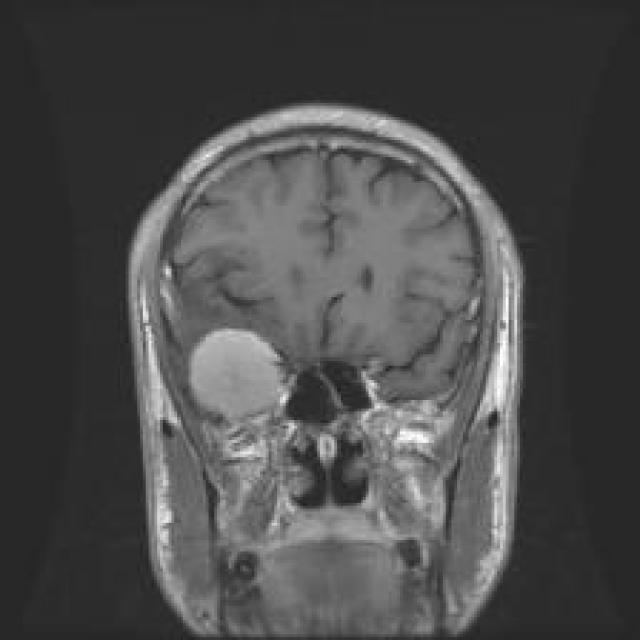meningioma_tumor: (180, 318, 304, 436)
